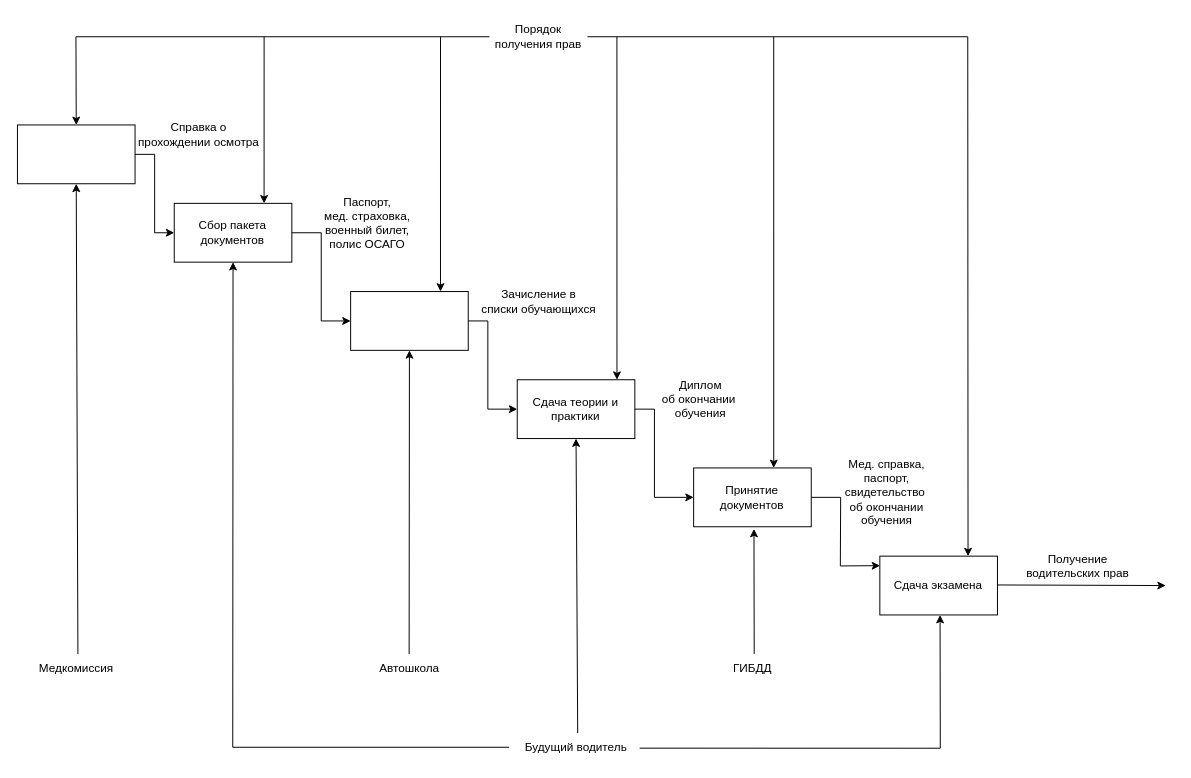
The diagram is 1191 pixels wide and 778 high, and some of its shapes have lost their labels. Each missing label, with the box of its shape:
Принятие на обучение: (350, 291, 468, 350)
Прохождение медицинского осмотра: (16, 124, 135, 184)
